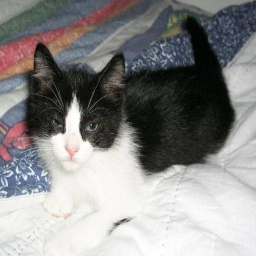cat: (26, 16, 236, 219)
